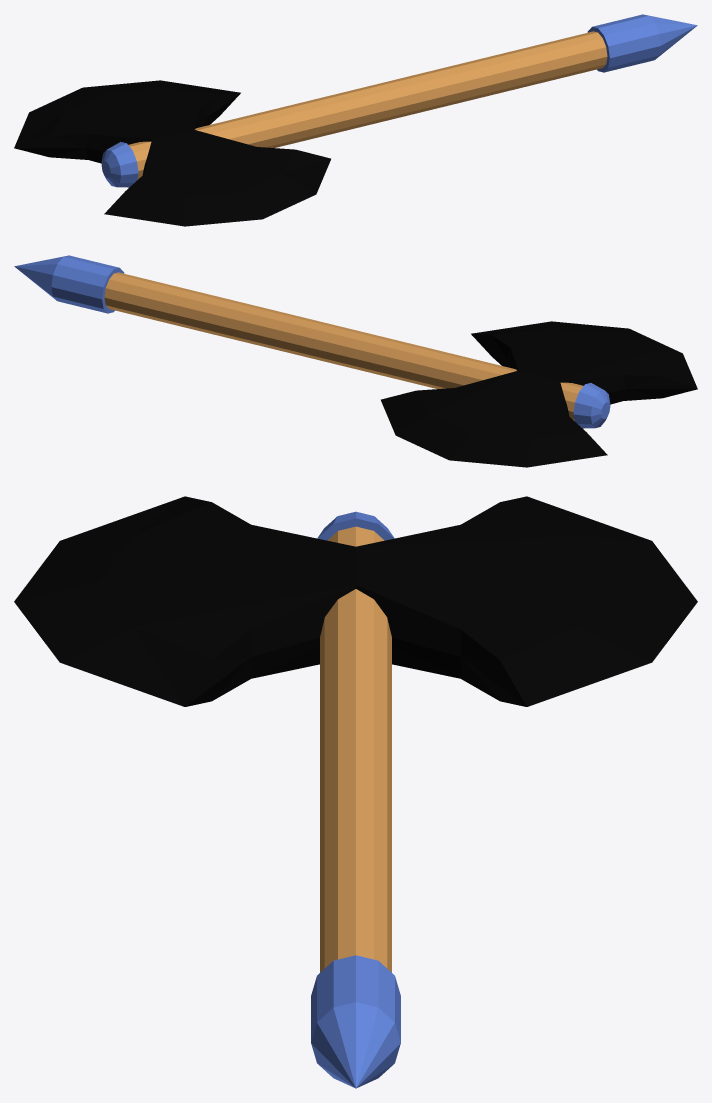
The model's file is Axe.fbx.
3 views of the same model, one above another, from view 1: azimuth 30°, elevation 25°; view 2: azimuth 150°, elevation 25°; view 3: azimuth 270°, elevation 25° (orthographic). The views are drawn at different scales.
Parts seen in each view (by area): view 1: JoinedObject; view 2: JoinedObject; view 3: JoinedObject.
Boxes of the visible parts, x1,y1,x2,y2 form: JoinedObject: (14,14,697,226); JoinedObject: (14,255,697,467); JoinedObject: (14,496,697,1088).
Size of the model in its own units: 1.95 by 0.125 by 0.95.
